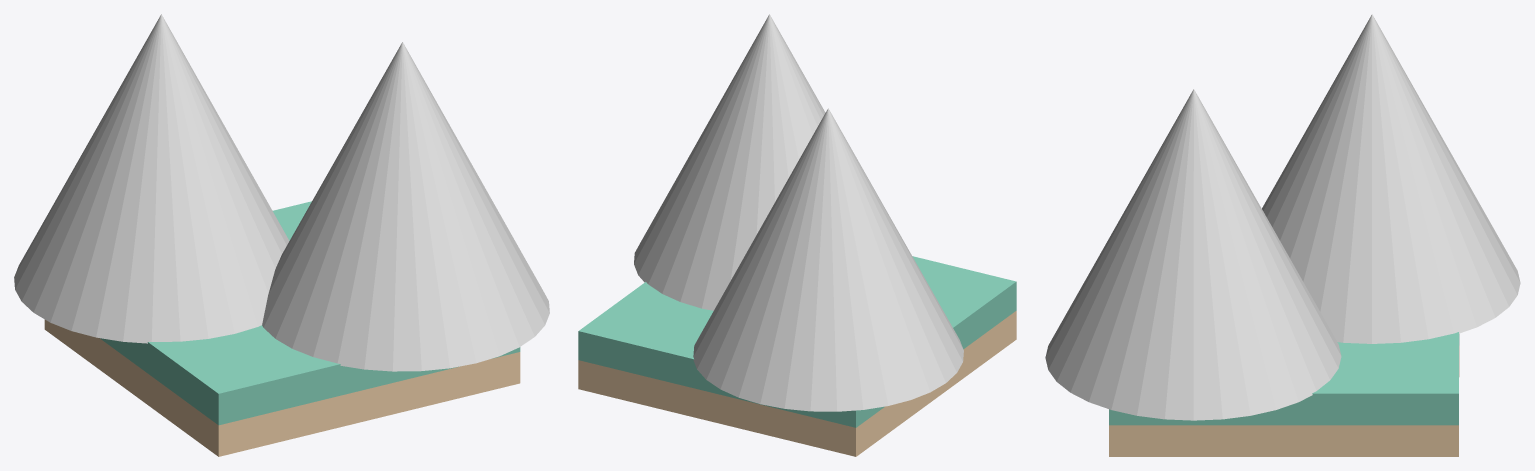
The model's file is terrain_tree1COL.gltf.
3 renders of one model, left to right at view 1: azimuth 30°, elevation 25°; view 2: azimuth 150°, elevation 25°; view 3: azimuth 270°, elevation 25°, orthographic. The views are drawn at different scales.
Parts seen in each view (by area): view 1: COL, COL1, tile_treeDouble; view 2: COL1, tile_treeDouble, COL; view 3: COL, COL1, tile_treeDouble.
Boxes of the visible parts, x1,y1,x2,y2 form: COL: (262,42,549,371); COL1: (14,14,289,343); tile_treeDouble: (44,201,520,456); COL1: (693,108,963,411); tile_treeDouble: (578,256,1016,456); COL: (634,14,825,310); COL: (1045,89,1341,420); COL1: (1262,14,1520,343); tile_treeDouble: (1109,332,1459,456).
Size of the model in its own units: 1.35 by 1.04 by 1.36.
